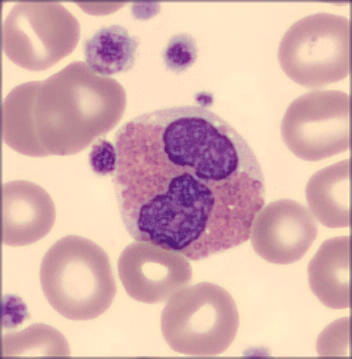EO: (112, 109, 266, 260)
PLT: (85, 26, 140, 76), (158, 33, 200, 74), (88, 139, 117, 179), (1, 292, 29, 329), (132, 1, 159, 24), (192, 90, 215, 110), (240, 345, 270, 359)
RBC: (37, 63, 127, 152), (41, 235, 117, 321), (1, 79, 81, 159), (158, 281, 239, 359), (273, 11, 351, 87), (1, 1, 77, 67), (279, 92, 349, 161), (117, 241, 193, 303), (249, 199, 317, 267), (304, 236, 352, 312), (1, 178, 53, 244), (304, 162, 351, 229), (311, 315, 352, 359)
